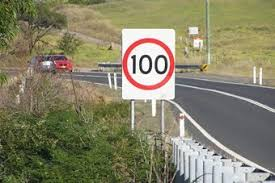Speed_limit_100km: (122, 38, 176, 91)
